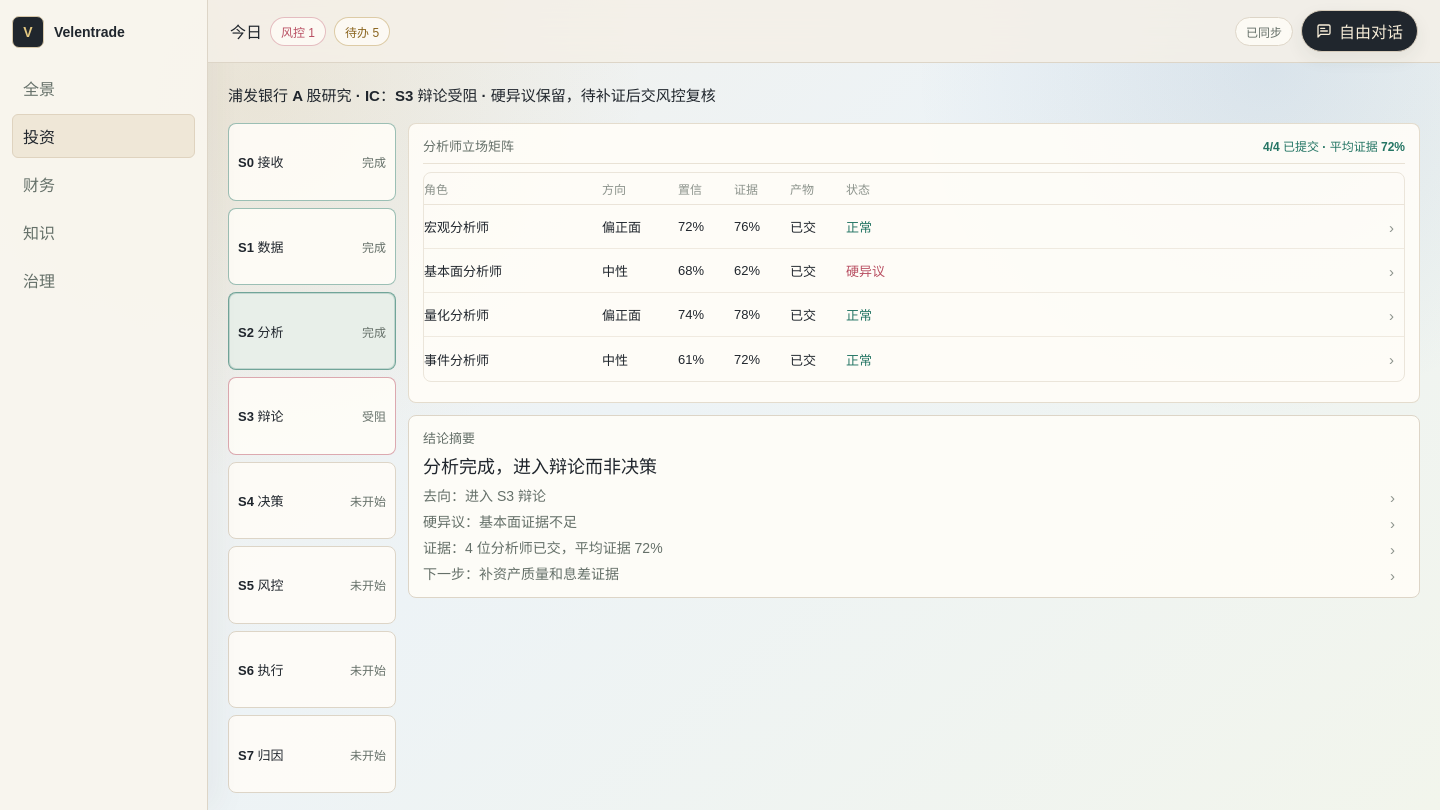
Test case: WI-004 workbench interactions › switches stage summary cards without opening the detail drawer from the stage rail
Step 1. Click the button "S6 执行 未开始" → {"x": 312, "y": 670}, box [228, 631, 396, 708]
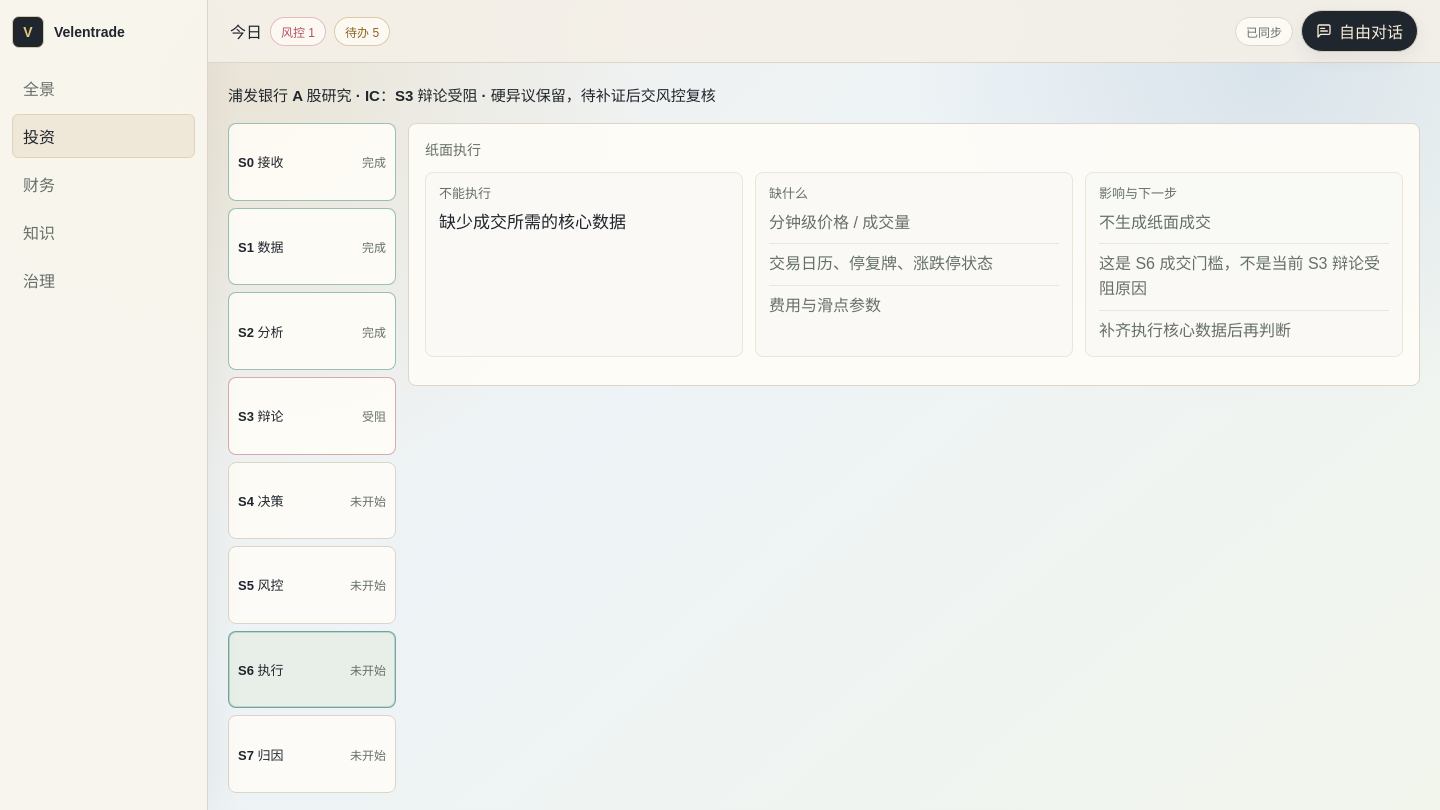
Now the text "不能执行" is shown, box [439, 186, 491, 201]
Now the text "影响与下一步" is shown, box [1099, 186, 1177, 201]
